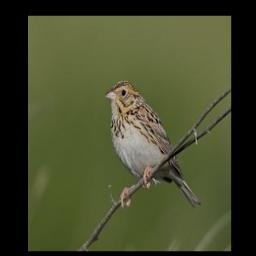Sparrow: (106, 78, 202, 207)
